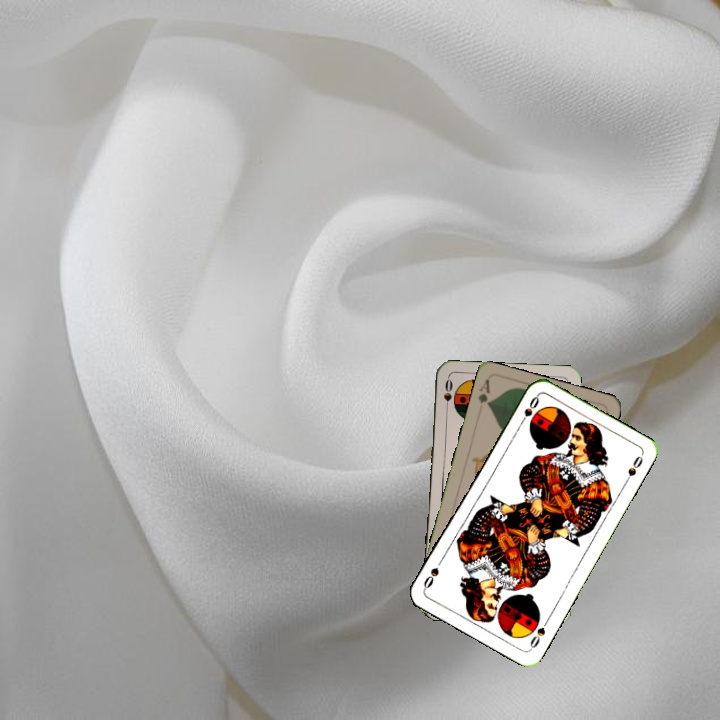GA: (474, 376, 493, 409)
SO: (515, 392, 542, 429), (526, 615, 552, 652), (439, 375, 455, 415)
